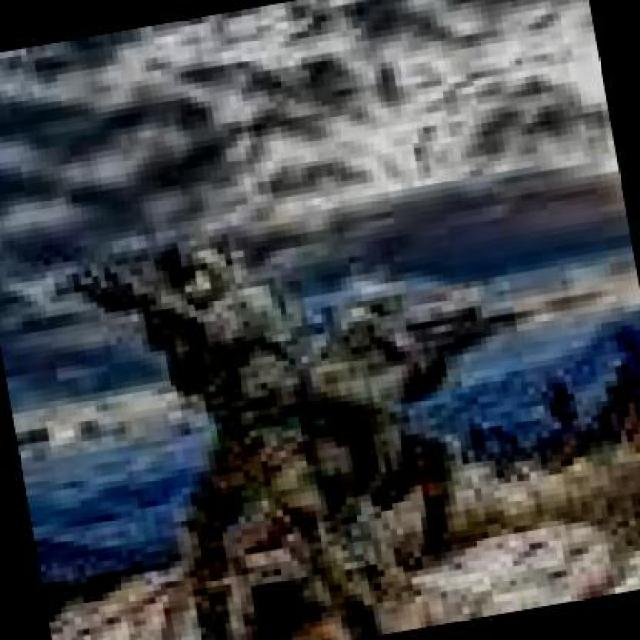MIL_Pax: (114, 224, 381, 638), (302, 289, 467, 569)
